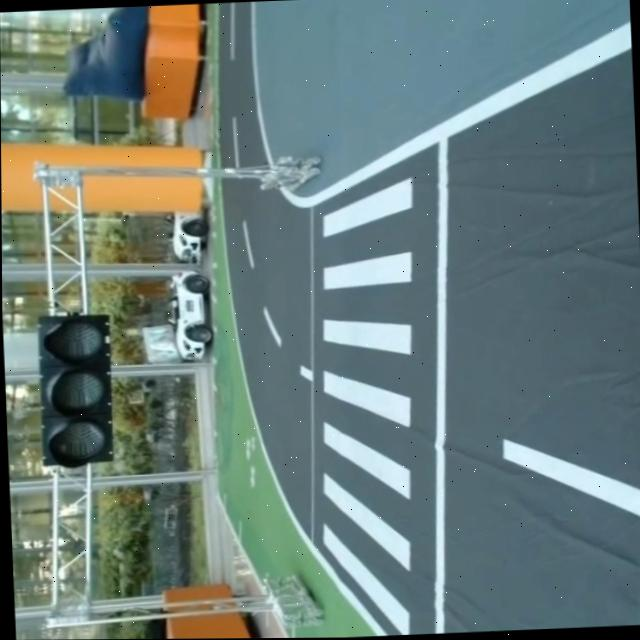traffic-light: (33, 309, 121, 473)
